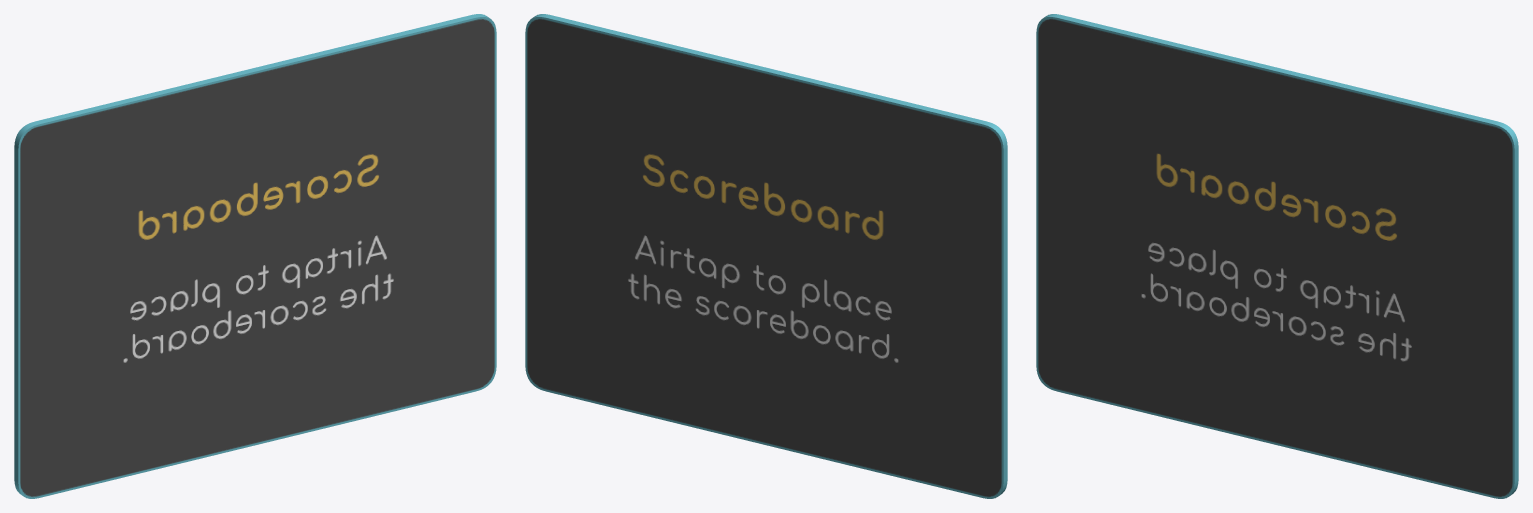
File: MainPanel.FBX
3 views of the same model, side by side, from view 1: azimuth 30°, elevation 25°; view 2: azimuth 150°, elevation 25°; view 3: azimuth 330°, elevation 25° (orthographic).
Parts seen in each view (by area): view 1: Box001; view 2: Box001; view 3: Box001.
Part boxes in pixels (x1=…): Box001: x1=14, y1=14, x2=496, y2=498; Box001: x1=525, y1=14, x2=1007, y2=498; Box001: x1=1036, y1=14, x2=1518, y2=498.
Bounding box in the file's own units: 109 × 81.21 × 1.58.
Materials: 1 (1 with a texture image).
